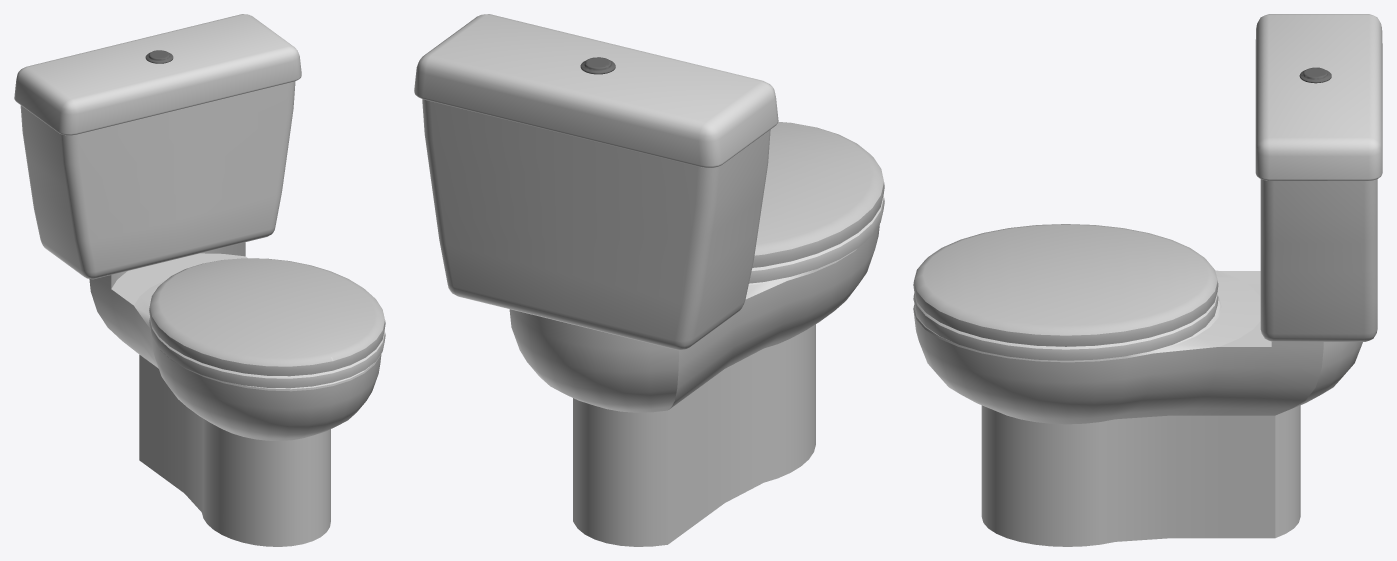
The model's file is Toilet(Closed).glb.
3 views of the same model, side by side, from view 1: azimuth 30°, elevation 25°; view 2: azimuth 150°, elevation 25°; view 3: azimuth 270°, elevation 25° (orthographic). The views are drawn at different scales.
Parts seen in each view (by area): view 1: Toilet (Closed); view 2: Toilet (Closed); view 3: Toilet (Closed).
Part boxes in pixels (x1,y1,x2,y2): Toilet (Closed): (14,14,385,546); Toilet (Closed): (414,14,884,546); Toilet (Closed): (913,14,1382,546).
Bounding box in the file's own units: 0.4809 × 0.73 × 0.6982.
1 material, 1 textured.
